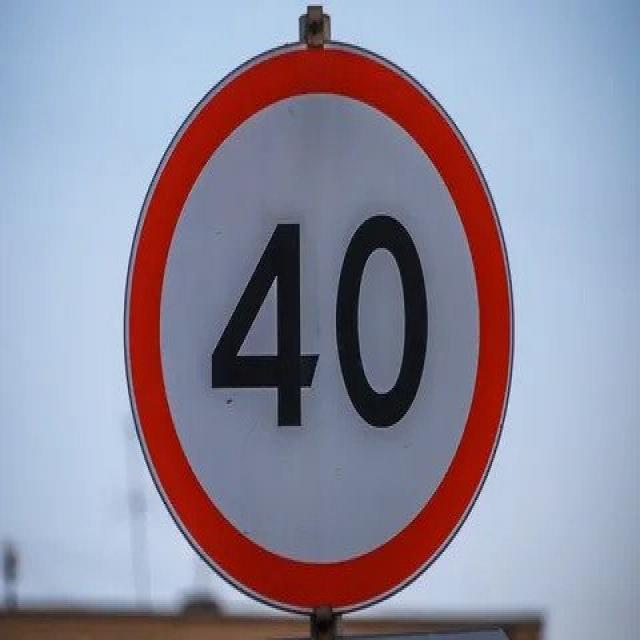speed limit 40: (122, 32, 519, 619)
